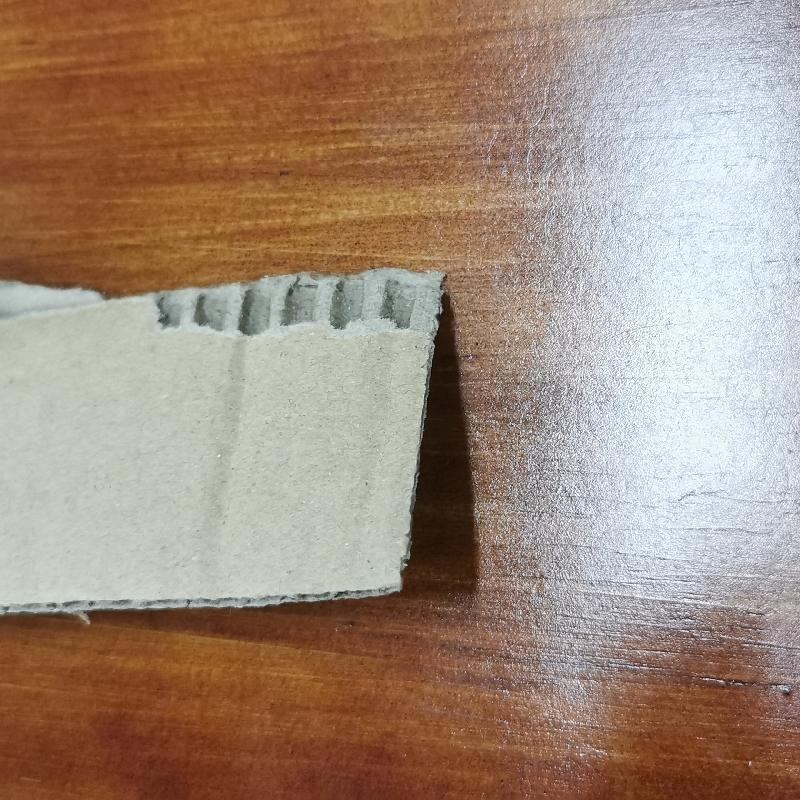boxes: (1, 237, 448, 626)
